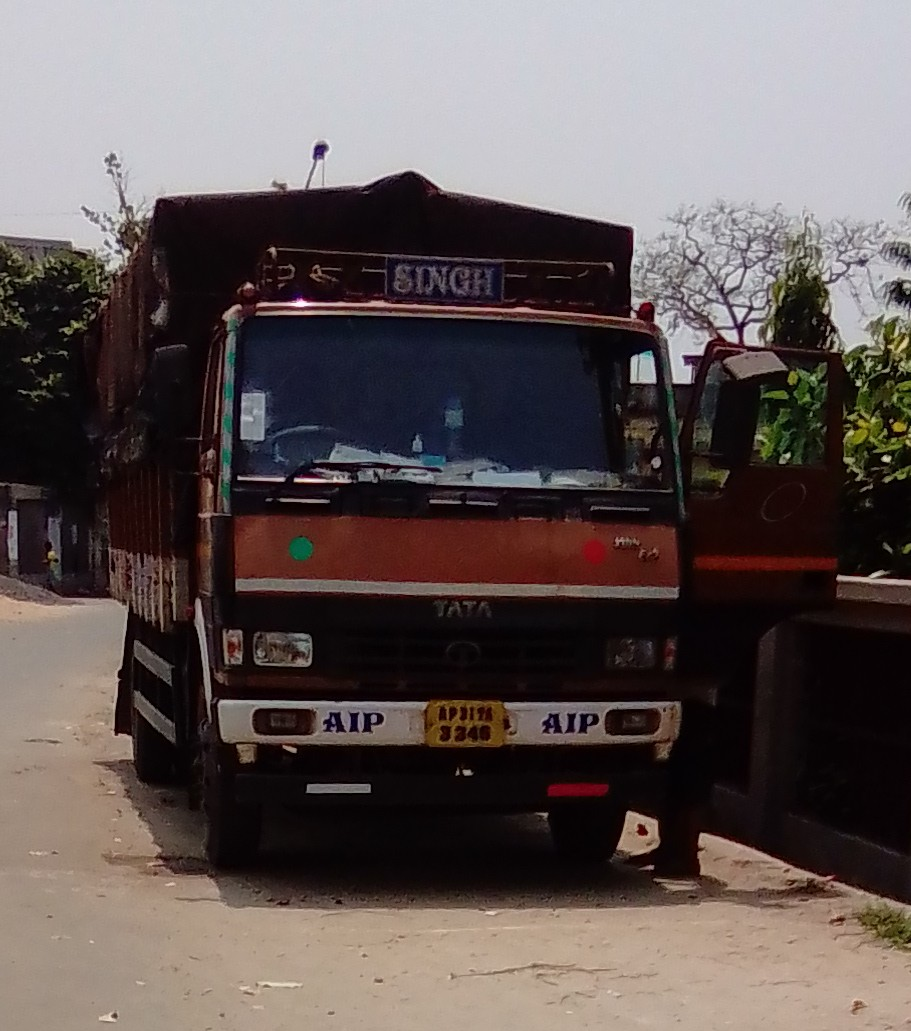lorry: (86, 146, 716, 853)
plate: (412, 700, 516, 758)
